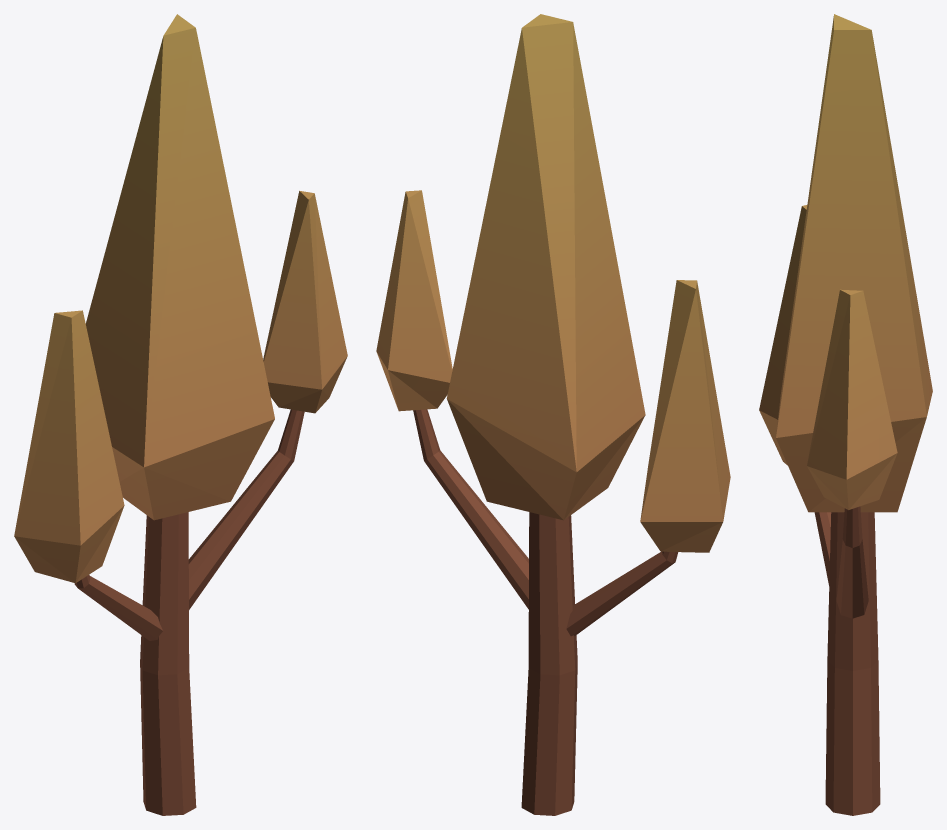
File: Tree_50_gradient_yellow_vc.fbx
3 renders of one model, left to right at view 1: azimuth 30°, elevation 25°; view 2: azimuth 150°, elevation 25°; view 3: azimuth 270°, elevation 25°, orthographic.
Parts seen in each view (by area): view 1: Tree_50_gradient_yellow_vc; view 2: Tree_50_gradient_yellow_vc; view 3: Tree_50_gradient_yellow_vc.
Boxes of the visible parts, x1,y1,x2,y2 form: Tree_50_gradient_yellow_vc: (14,14,347,815); Tree_50_gradient_yellow_vc: (376,14,730,815); Tree_50_gradient_yellow_vc: (759,14,932,815).
Bounding box in the file's own units: 118 × 259 × 52.22.
